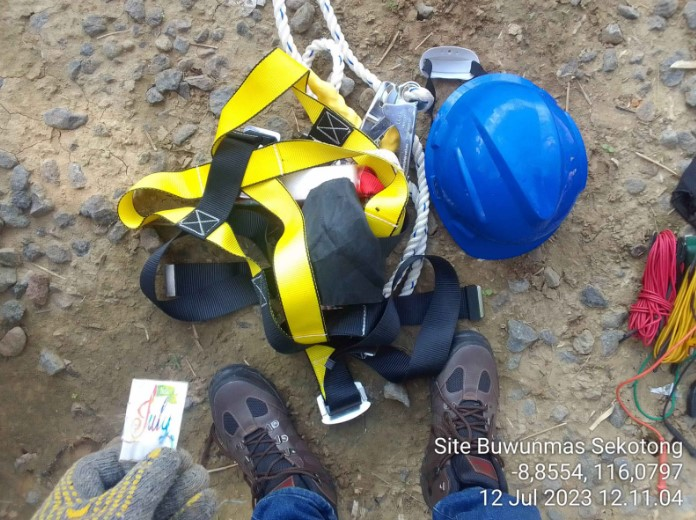TAMBANG_SLING: (151, 132, 421, 333)
